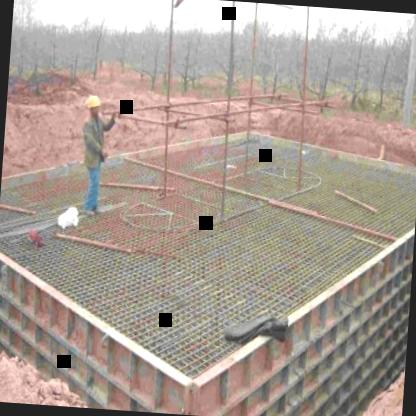helmet: (84, 89, 102, 120)
